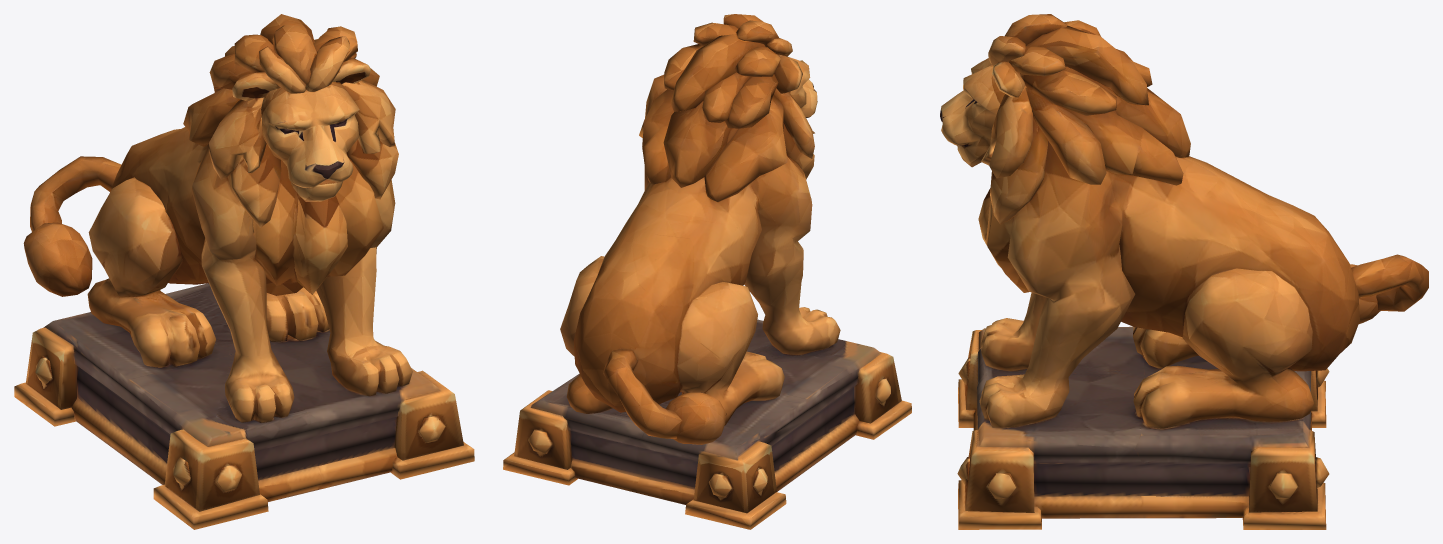
File: Meshy_AI_model.fbx
The picture shows the model from 3 angles, left to right: view 1: azimuth 30°, elevation 25°; view 2: azimuth 150°, elevation 25°; view 3: azimuth 270°, elevation 25°; orthographic projection. The views are drawn at different scales.
Visible parts, largest first — view 1: Mesh_0; view 2: Mesh_0; view 3: Mesh_0.
Boxes of the visible parts, x1,y1,x2,y2 form: Mesh_0: (14,14,474,529); Mesh_0: (503,14,911,529); Mesh_0: (940,14,1428,529).
Size of the model in its own units: 67.48 by 100 by 100.
Materials: 1 (1 with a texture image).
